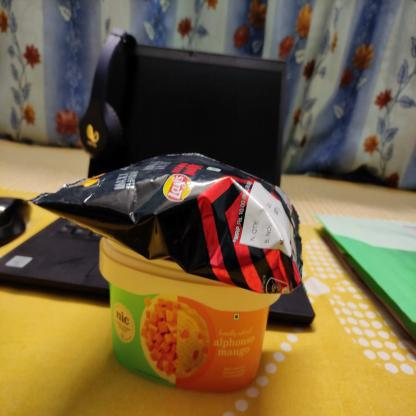max_chili: (34, 160, 327, 289)
